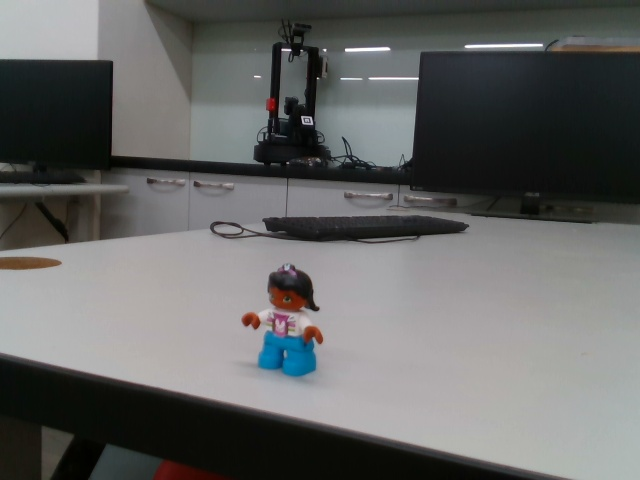people: (239, 261, 328, 381)
